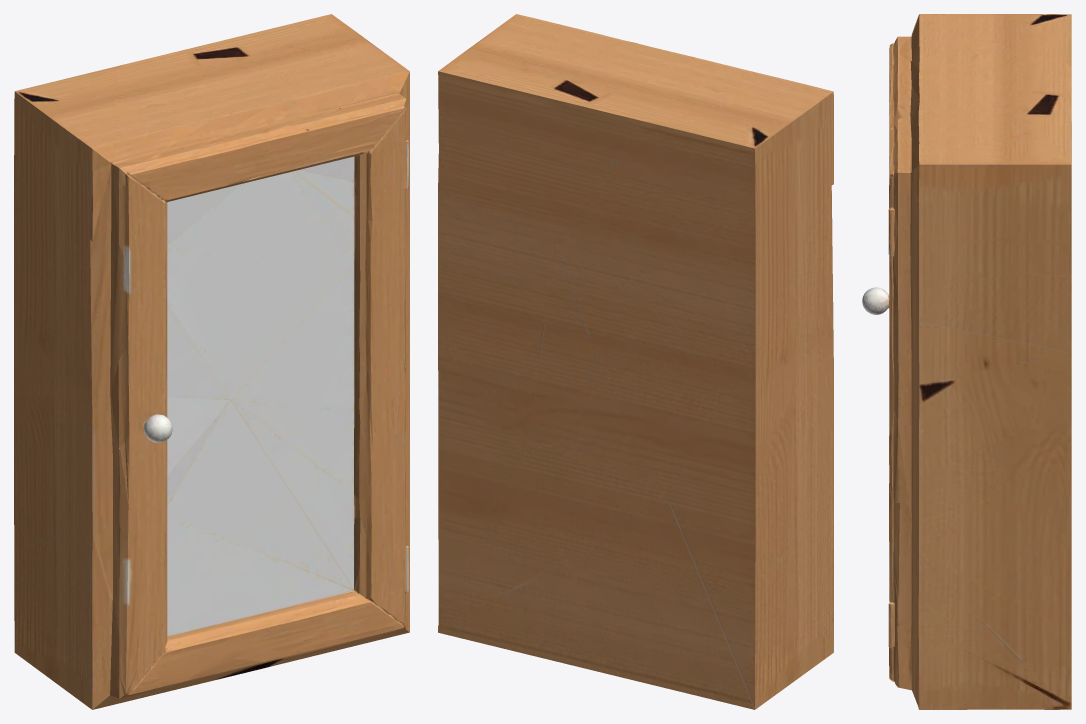
The model's file is mirror_cabinet.glb.
3 renders of one model, left to right at view 1: azimuth 30°, elevation 25°; view 2: azimuth 150°, elevation 25°; view 3: azimuth 270°, elevation 25°, orthographic. The views are drawn at different scales.
Size of the model in its own units: 1.12 by 1.9 by 0.6607.
Materials: 1 (1 with a texture image).
